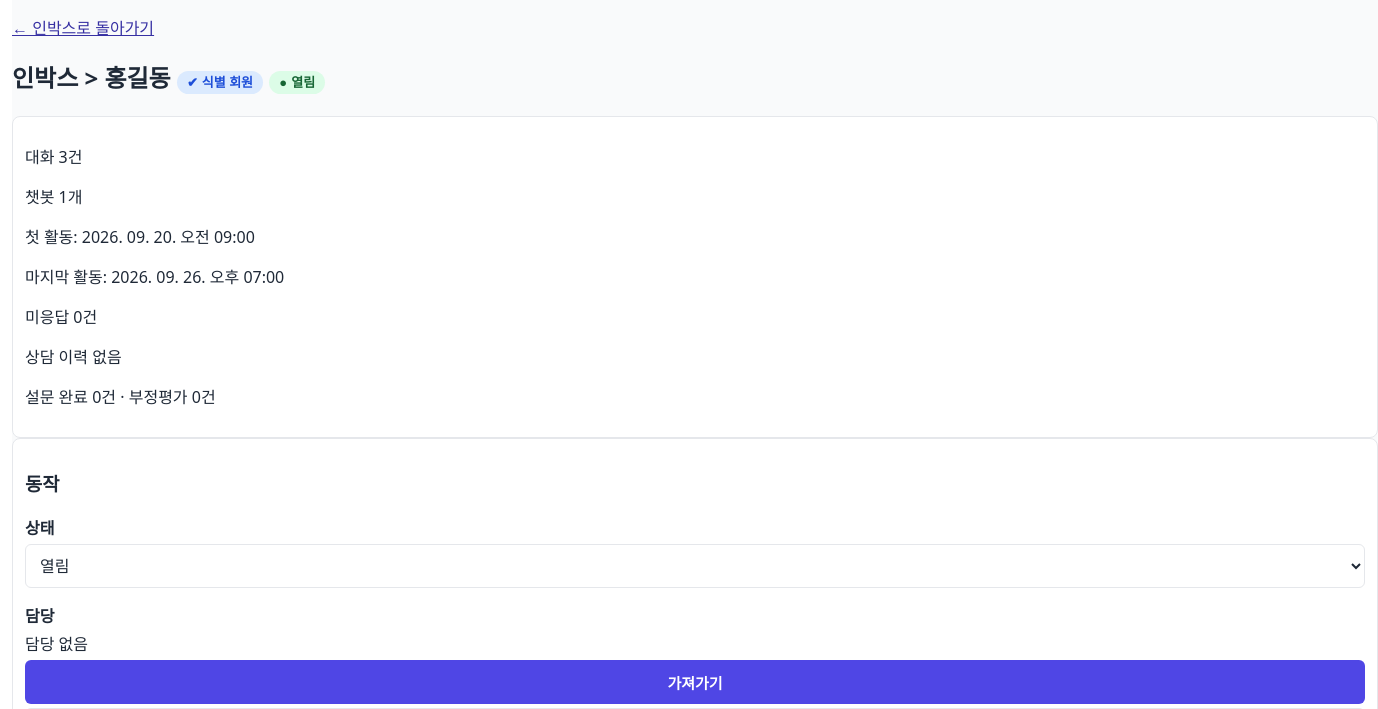
Scenario: InboxThreadDetailPage(OI-2) › 가져가기 경합(409 INBOX_THREAD_CONFLICT) 시 전용 안내 배너 후 자동 재조회한다(코드 리뷰 R1 M-4)
This screenshot has width=1378, height=709.
Expected: the heading "인박스 > 홍길동 ✔ 식별 회원 ● 열림" is shown, [12,61,325,94]
Click the button "가져가기". click: x=695, y=682
box: [25,660,1365,704]
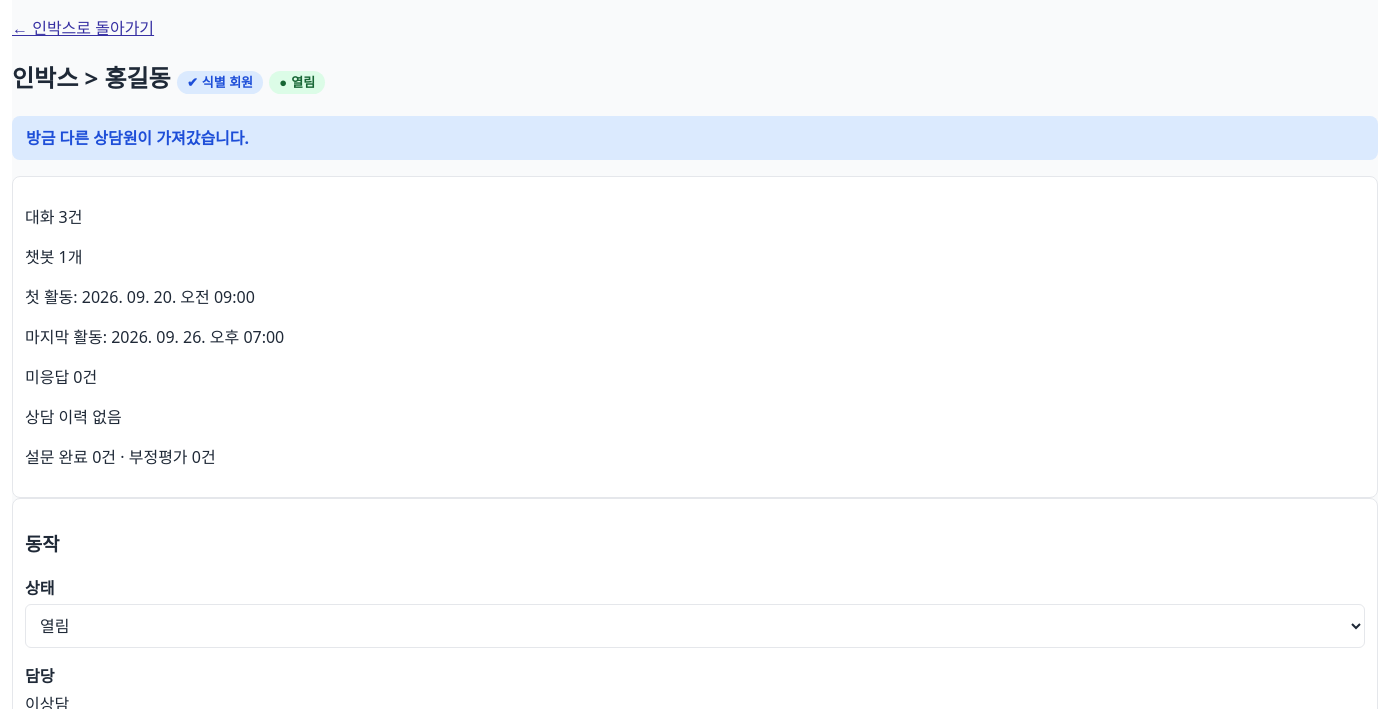
Expected: the text "방금 다른 상담원이 가져갔습니다." is shown, [12,116,1377,160]
